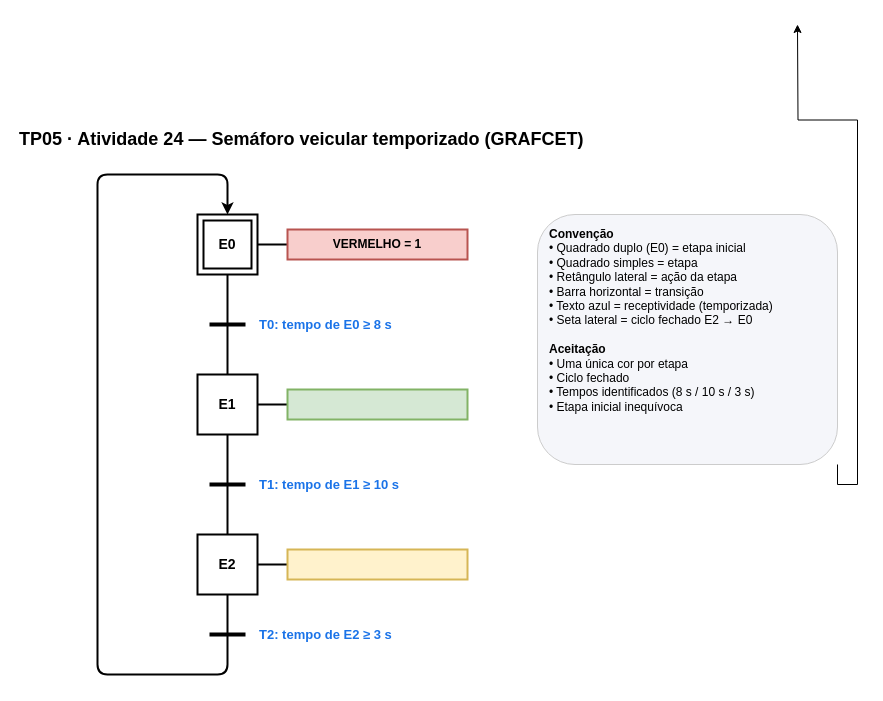
The diagram is 883 pixels wide and 701 high, and some of its shapes have lost their labels. Each missing label, with the centre of its shape:
AMARELO = 1: the point at 377,564
VERDE = 1: the point at 377,404
